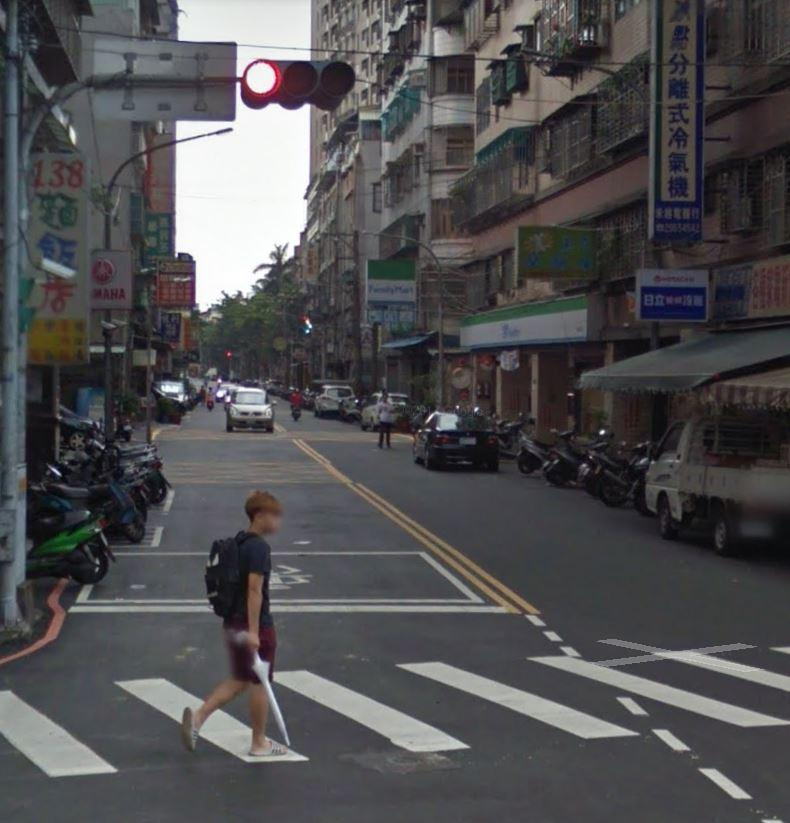red_traffic_light: (238, 56, 354, 109)
